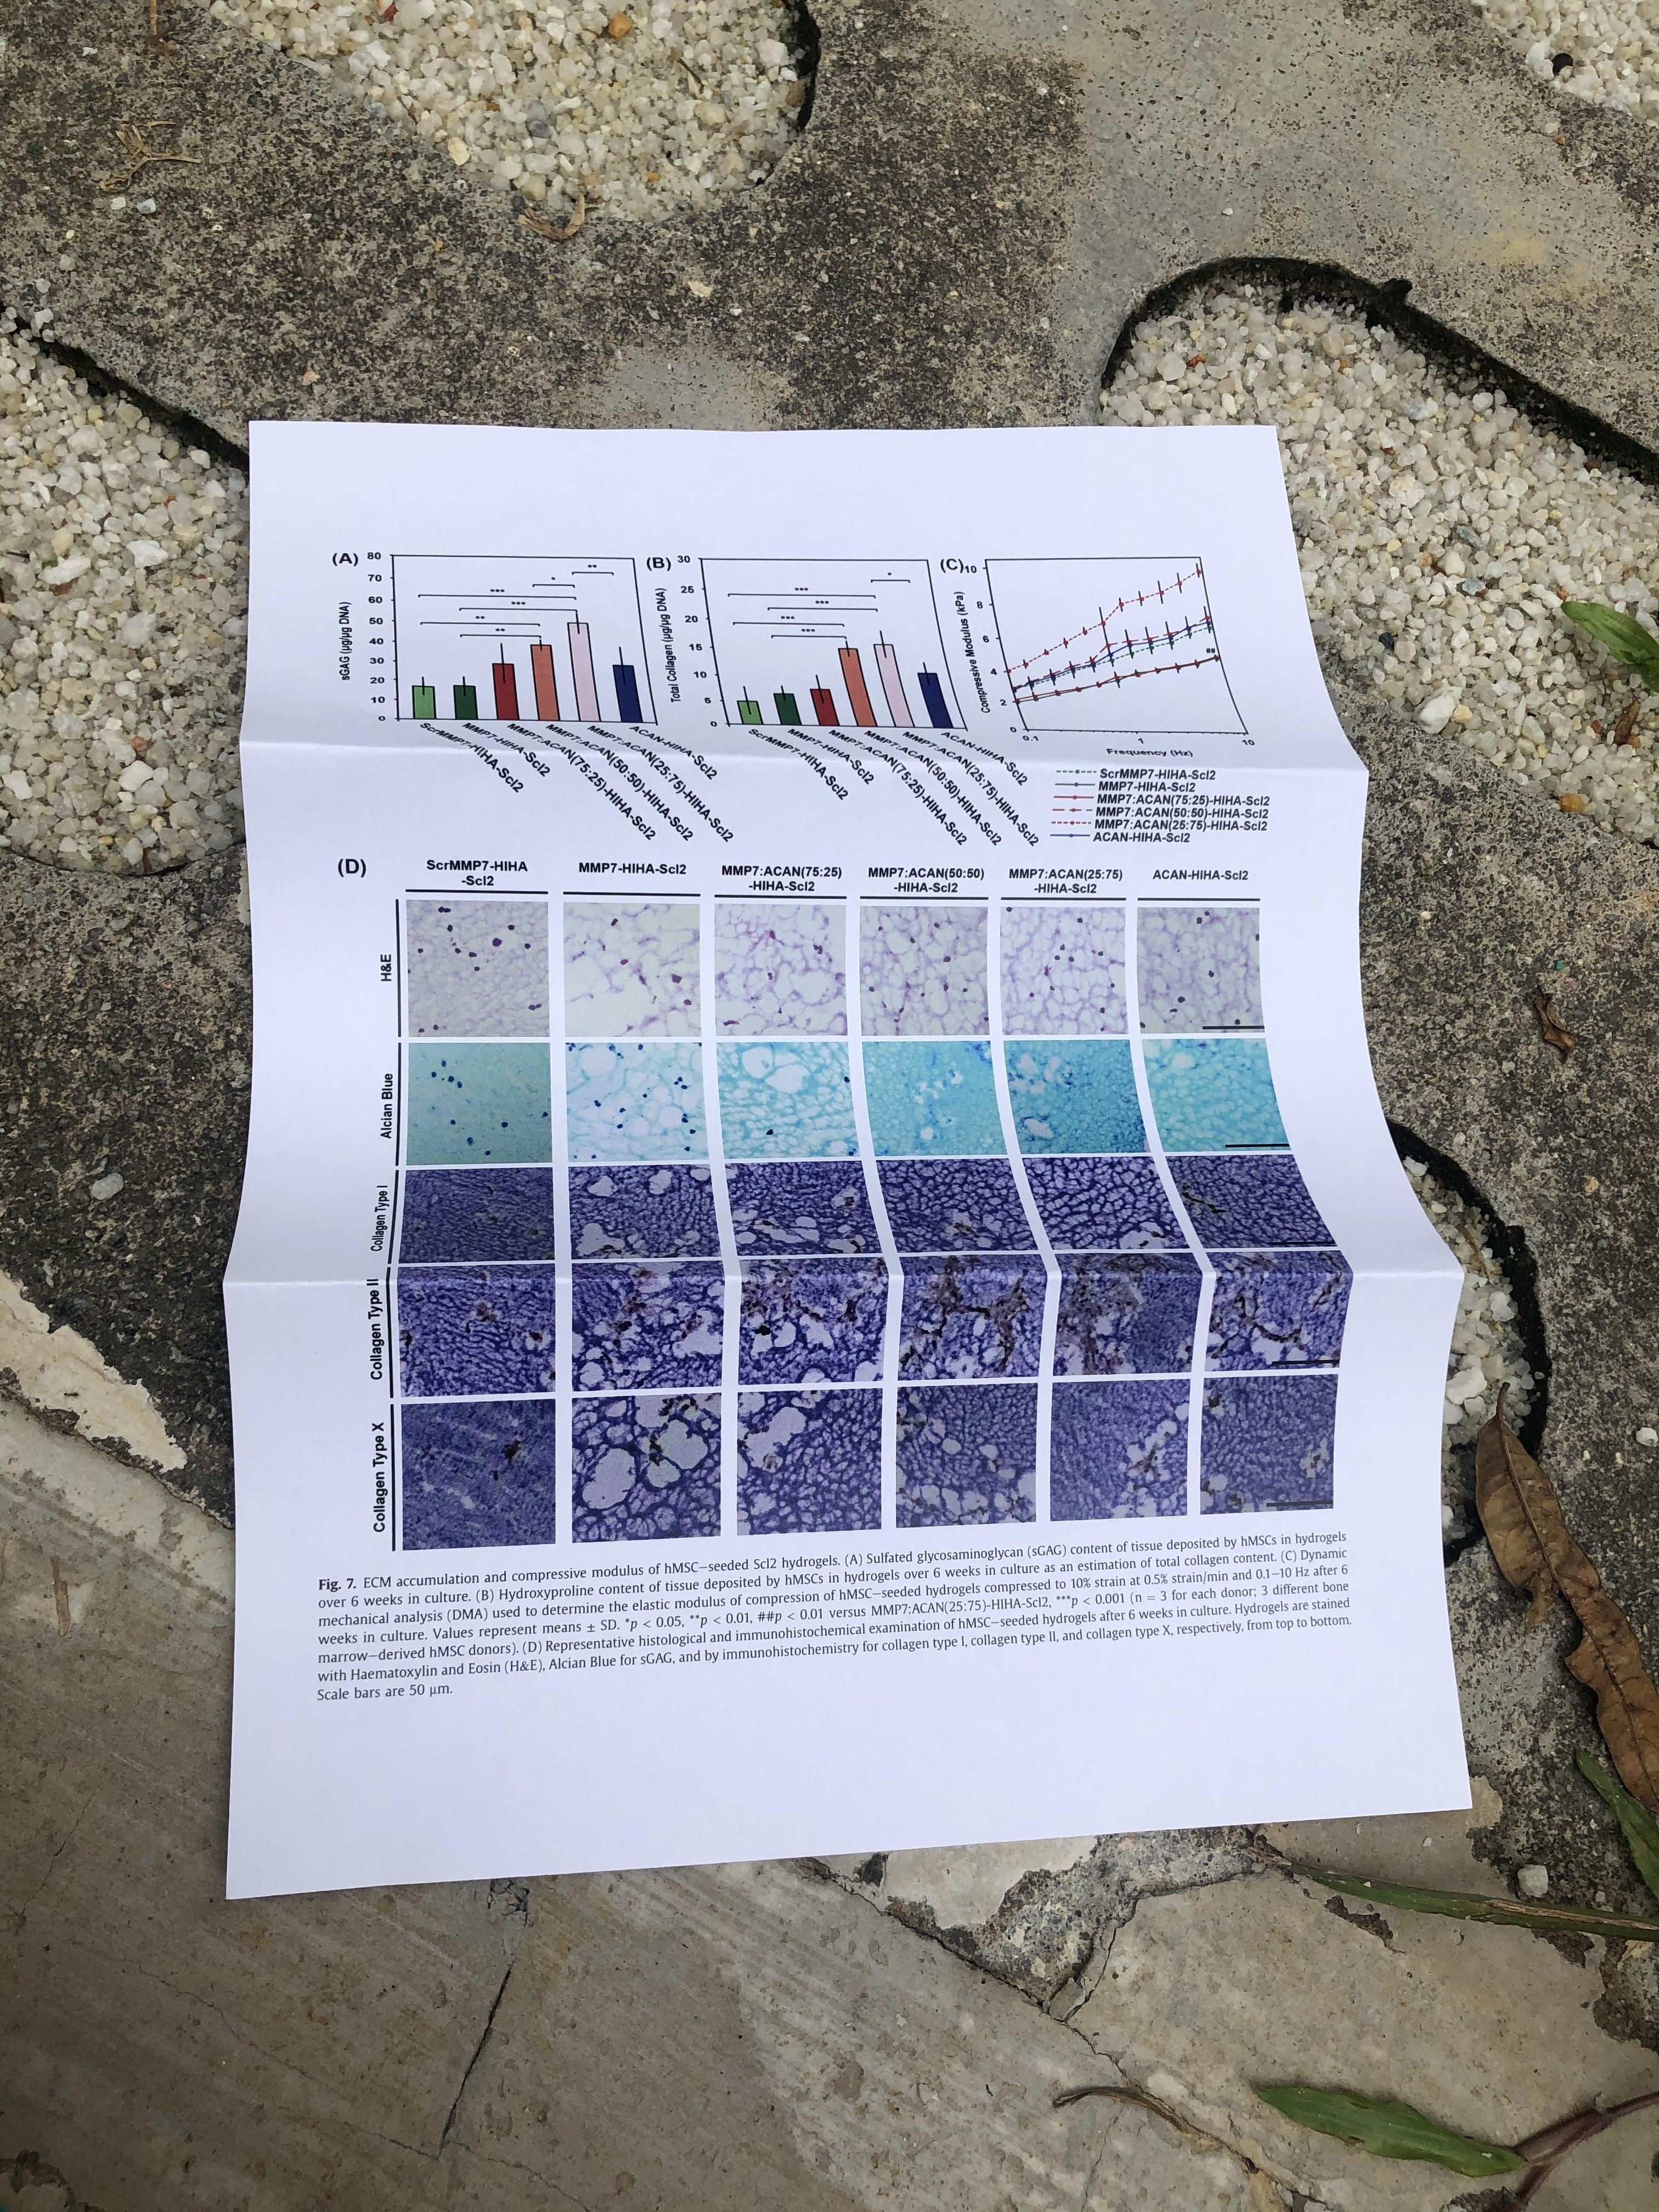paper: (138, 273, 1490, 2160)
